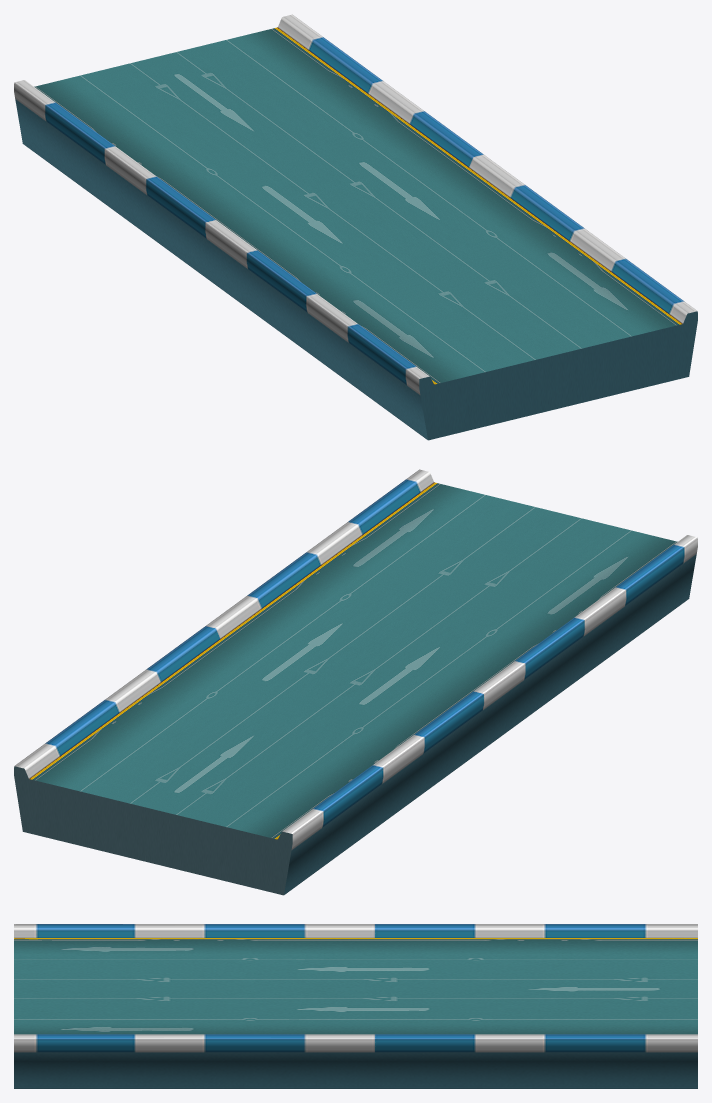
The picture shows the model from 3 angles, top to bottom: view 1: azimuth 30°, elevation 25°; view 2: azimuth 150°, elevation 25°; view 3: azimuth 270°, elevation 25°; orthographic projection. The views are drawn at different scales.
Parts seen in each view (by area): view 1: lu1, ce1; view 2: lu1, ce2; view 3: lu1.
Part boxes in pixels (left/top/right/bottom): lu1: left=14, top=14, right=697, bottom=439; ce1: left=419, top=311, right=697, bottom=440; lu1: left=14, top=469, right=697, bottom=894; ce2: left=14, top=766, right=292, bottom=895; lu1: left=14, top=924, right=697, bottom=1088.
Bounding box in the file's own units: 4893 × 1066 × 12322.
